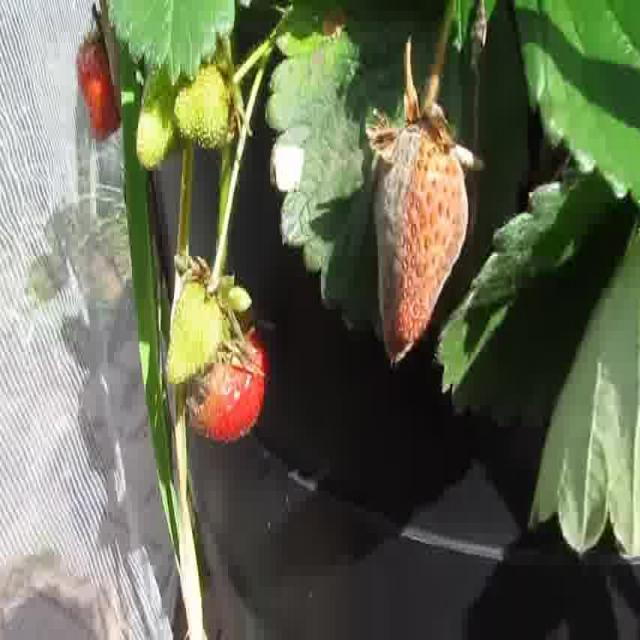Fruta sana: (195, 306, 266, 446), (163, 265, 227, 385), (73, 30, 124, 138)
Moho gris: (368, 120, 470, 368)
